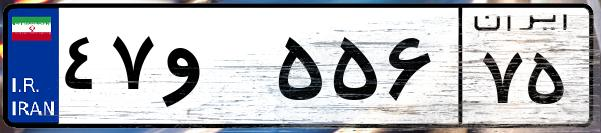4: (57, 26, 110, 100)
5: (270, 28, 330, 110), (330, 28, 385, 110), (525, 38, 570, 115)
6: (385, 28, 445, 110)
7: (475, 38, 525, 113), (110, 28, 158, 98)
و: (158, 20, 270, 120)
